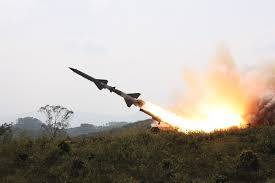ten_lua: (68, 66, 146, 109)
